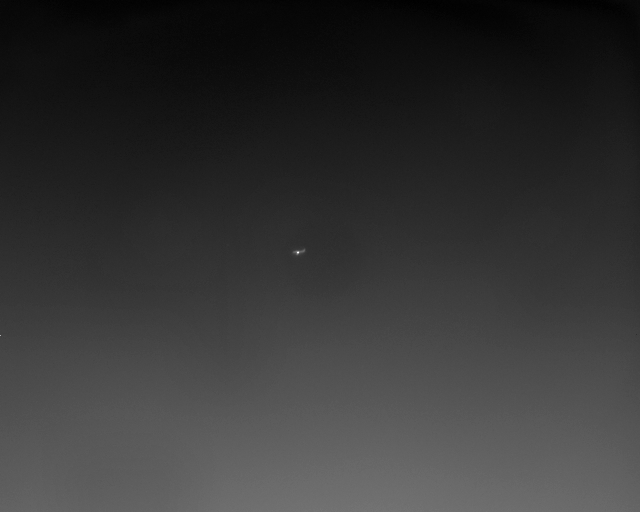Target: (293, 249, 306, 257)
